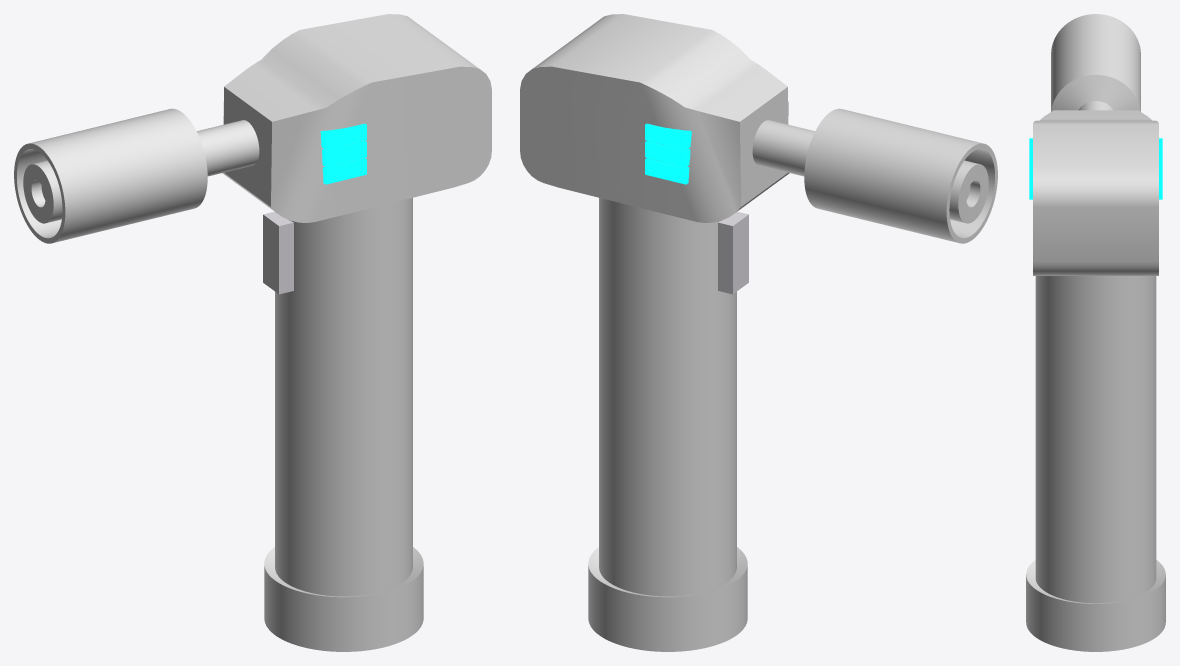
File: Blowtorch.fbx
3 renders of one model, left to right at view 1: azimuth 30°, elevation 25°; view 2: azimuth 150°, elevation 25°; view 3: azimuth 270°, elevation 25°, orthographic. The views are drawn at different scales.
Parts seen in each view (by area): view 1: Cube.001; view 2: Cube.001; view 3: Cube.001.
Boxes of the visible parts, <box> form: Cube.001: <box>14,14,491,651</box>; Cube.001: <box>520,14,997,651</box>; Cube.001: <box>1026,14,1165,651</box>.
Size of the model in its own units: 253 by 327 by 83.77.
